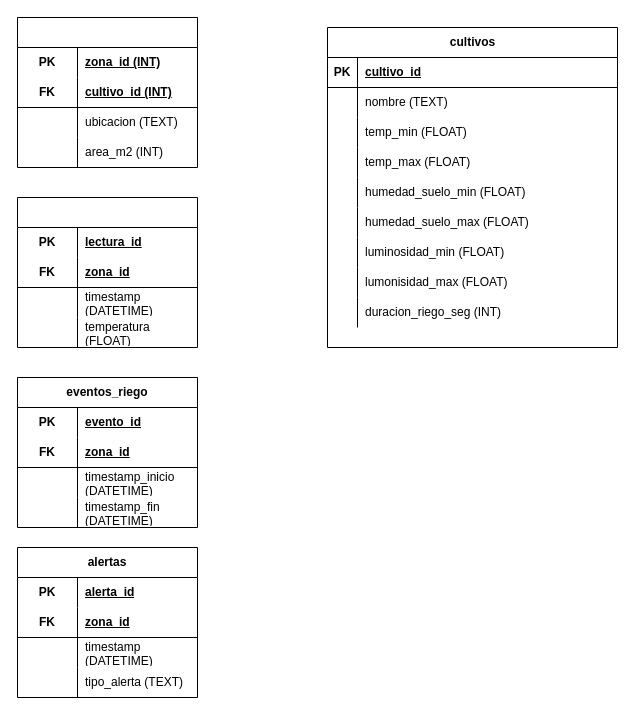
This 635x715 diagram has some shape labels left out. Here are the shapes that lost their labels. From the top down, the box of each, then its label:
(16, 16, 198, 168): Zonas
(16, 196, 198, 348): lecutras_sensores
